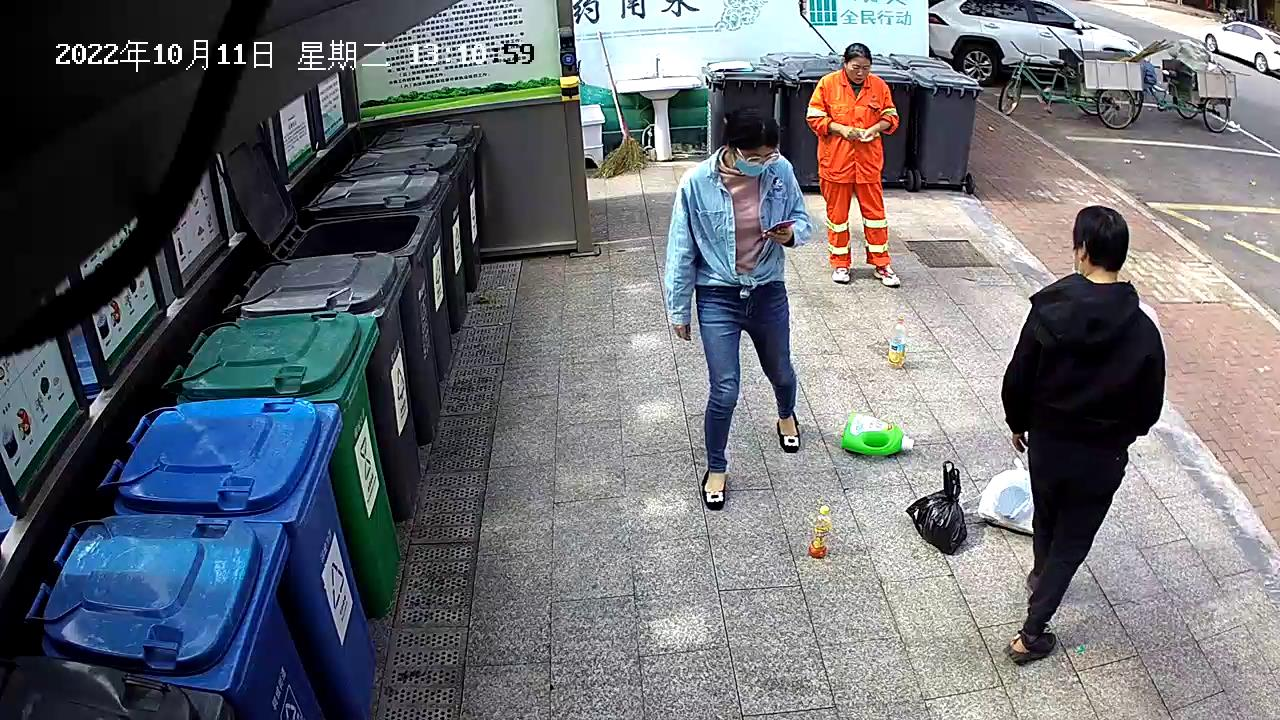garbage-bag: (901, 458, 969, 557), (977, 454, 1035, 539)
person: (996, 203, 1170, 667)
suliaozhipin: (837, 410, 916, 460), (808, 504, 834, 559), (886, 315, 909, 371)
worker: (662, 105, 815, 510), (804, 41, 904, 289)
